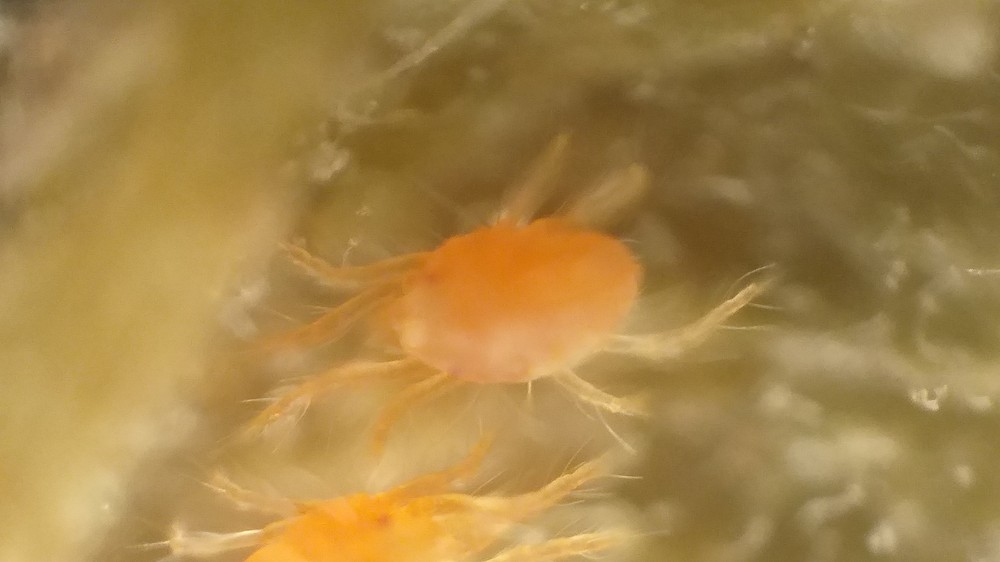Aracnido Rojo: (229, 136, 772, 427), (168, 431, 655, 562)
